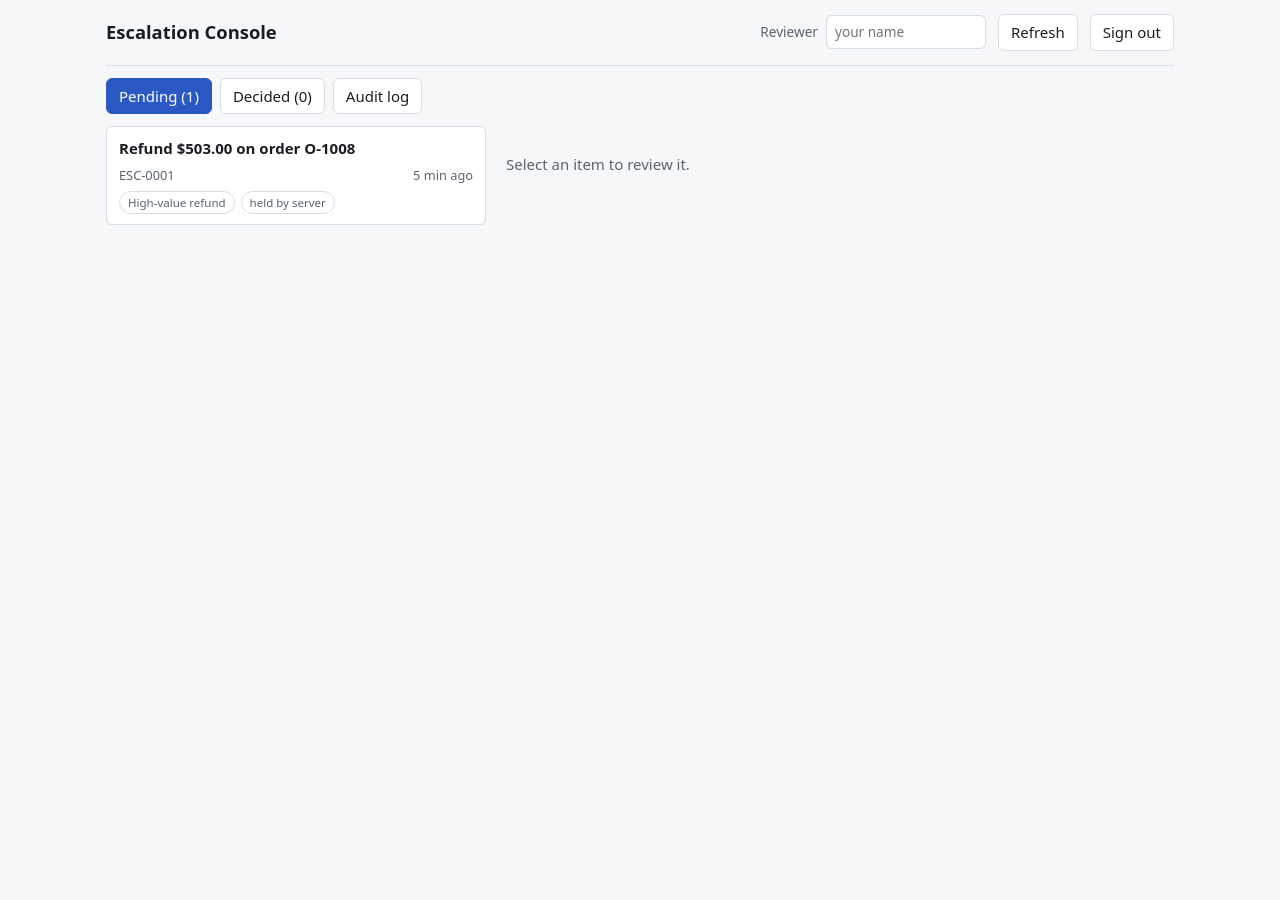
Test: Console › approves with the reviewer name, refreshes and reports the execution
Step 1. Type "arda" into the field with placeholder "your name" → (906, 32), box [826,15,986,49]
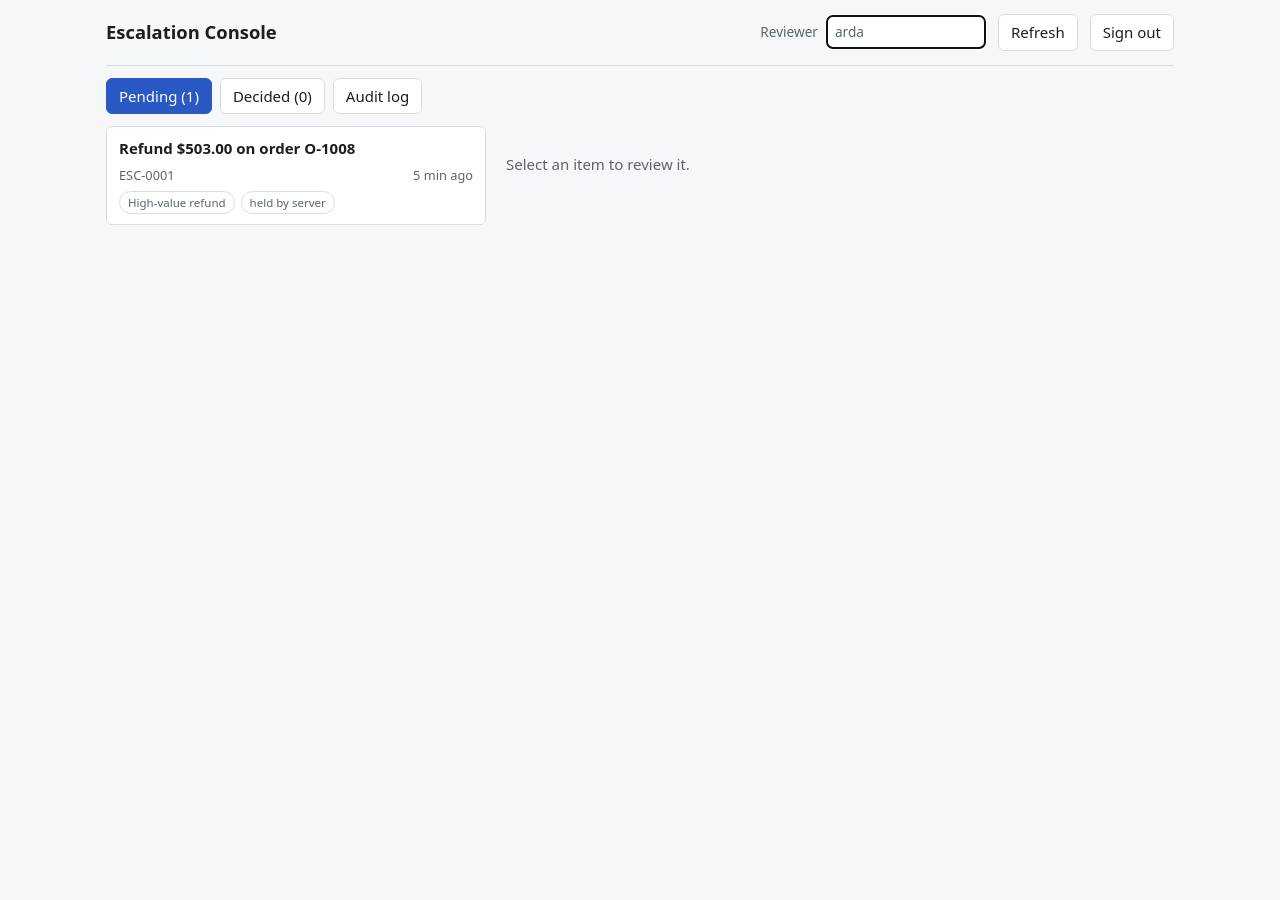
Step 2. Click the button "Refund $503.00" → (237, 148), box [106,126,486,225]
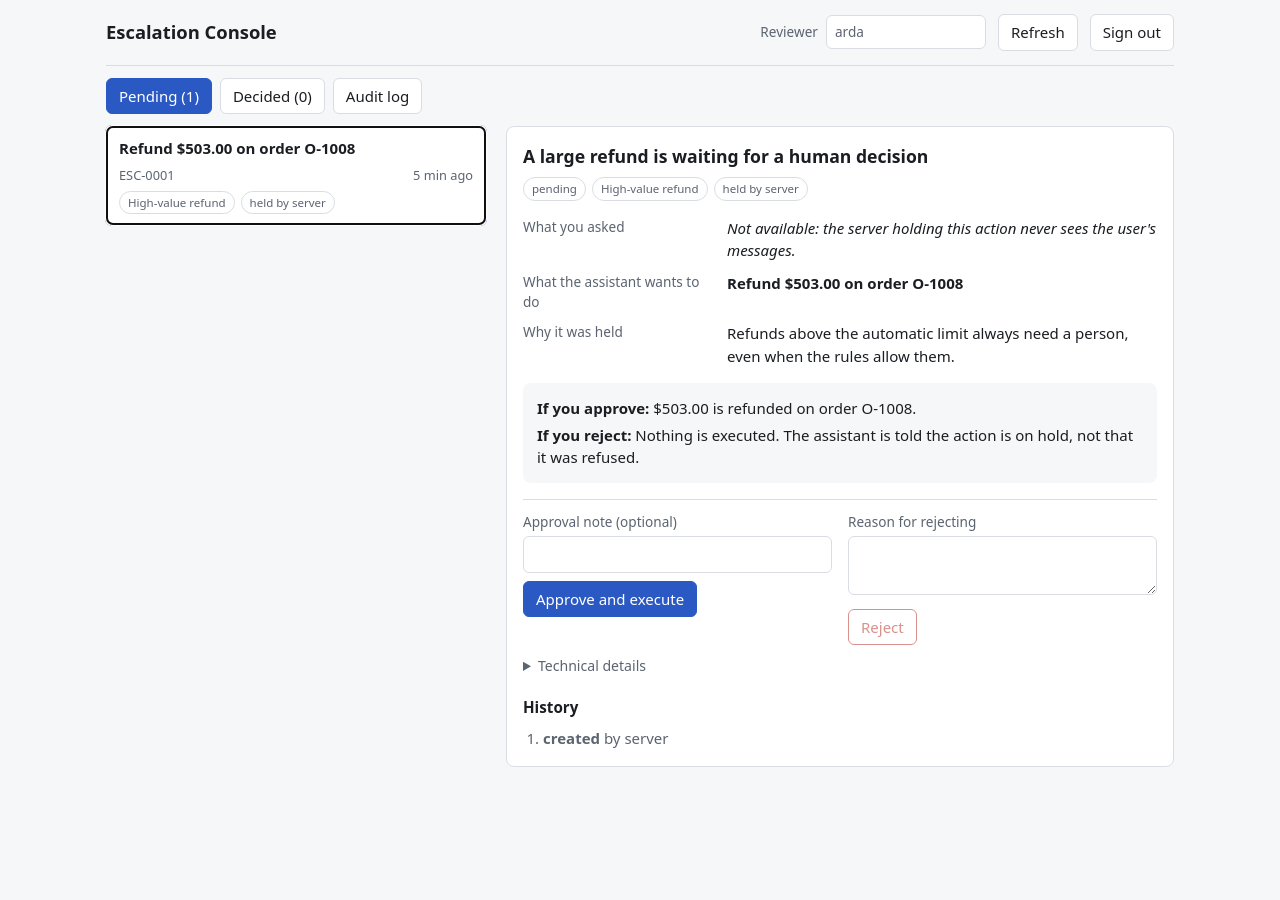
Step 3. Type "checked" into the field labelled "Approval note (optional)" → (678, 555), box [523,536,832,573]
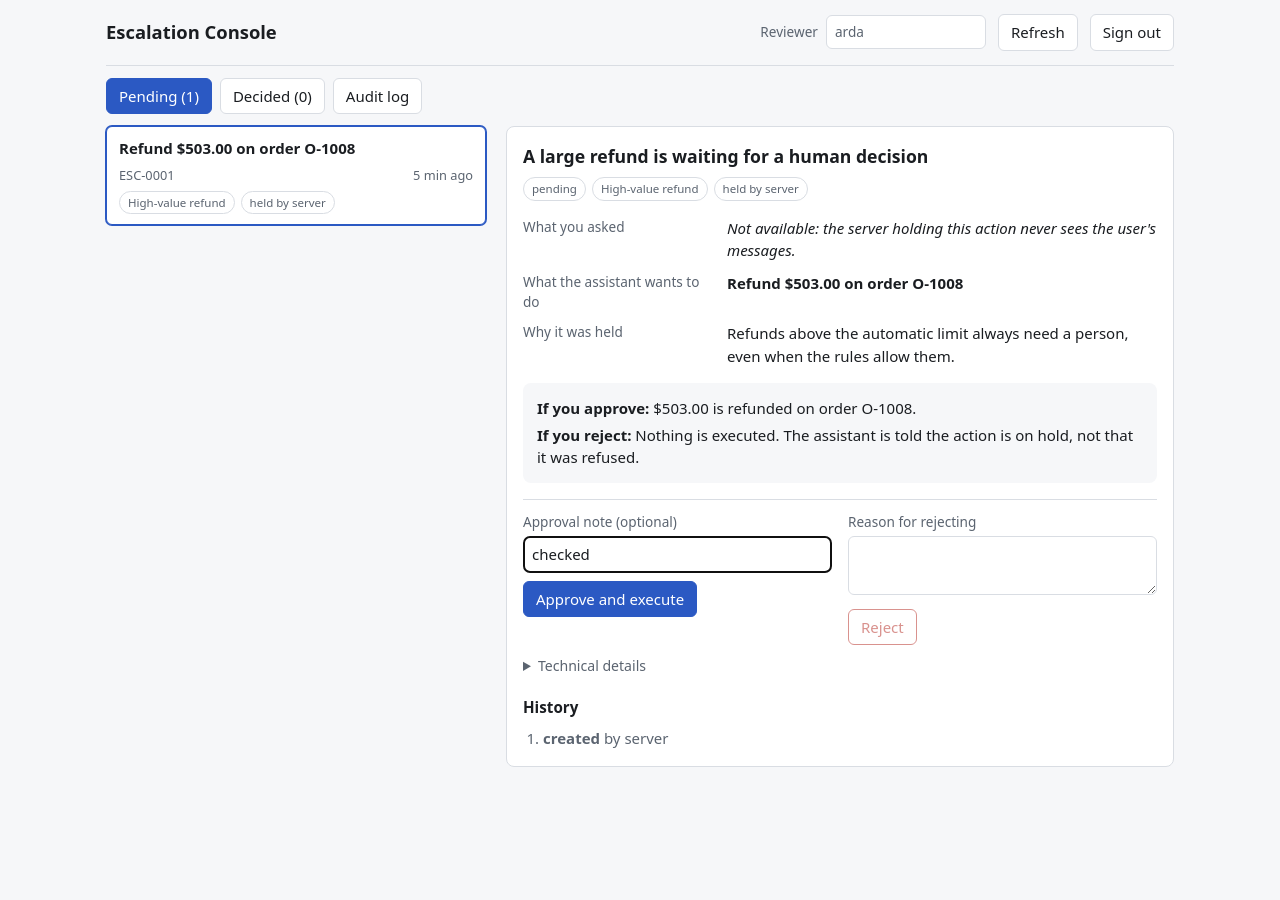
Step 4. Click the button "Approve and execute" → (610, 599), box [523,581,697,617]
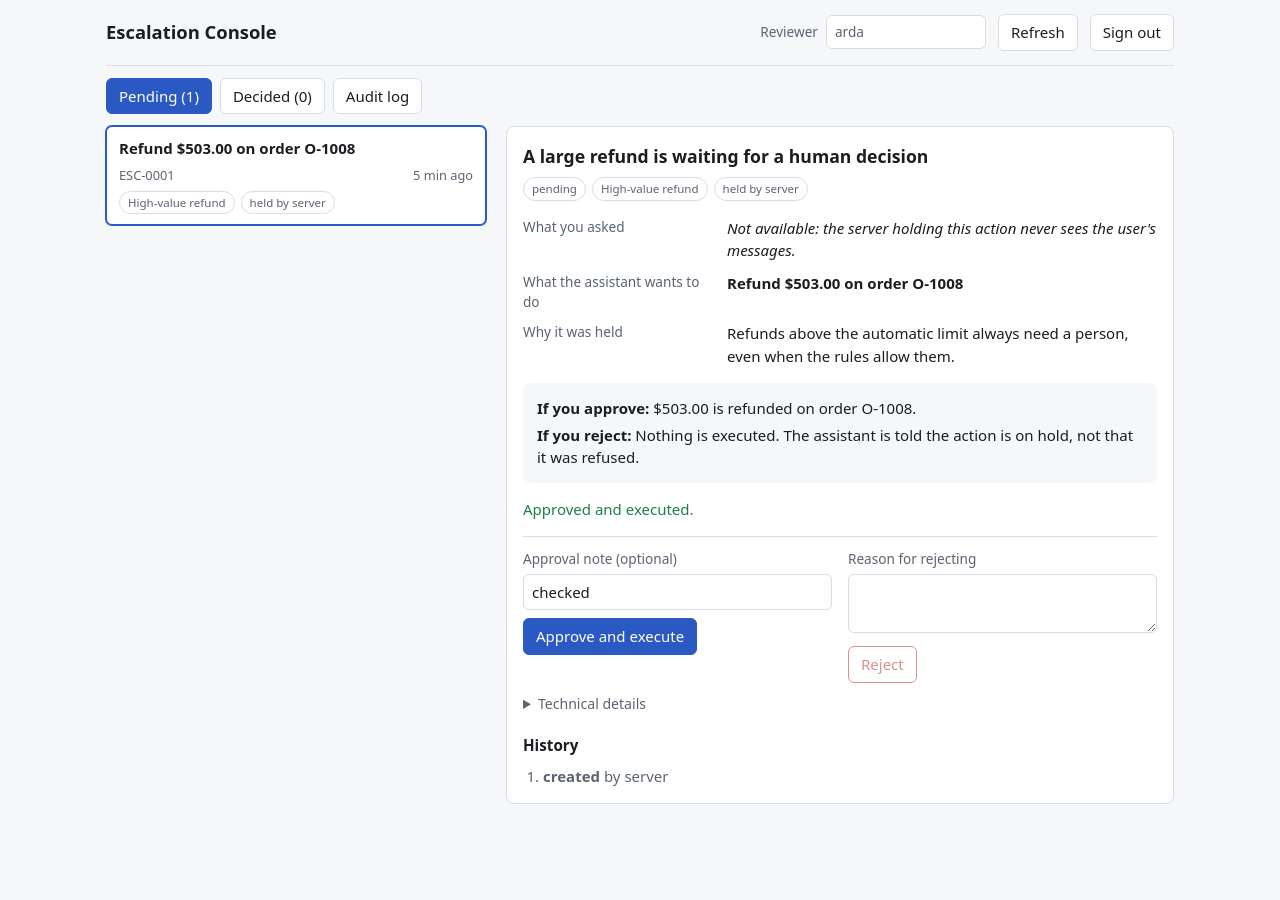
Check: the text "Approved and executed." is shown, box [523,499,694,519]
